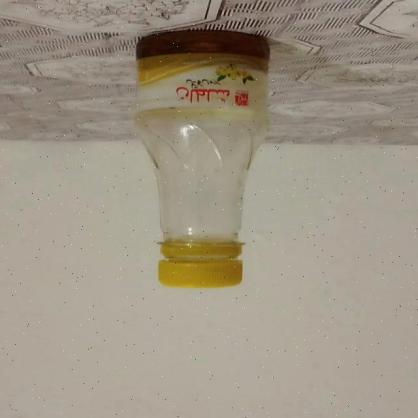bottle: (125, 31, 288, 302)
cap: (151, 237, 245, 291)
label: (136, 38, 269, 125)
